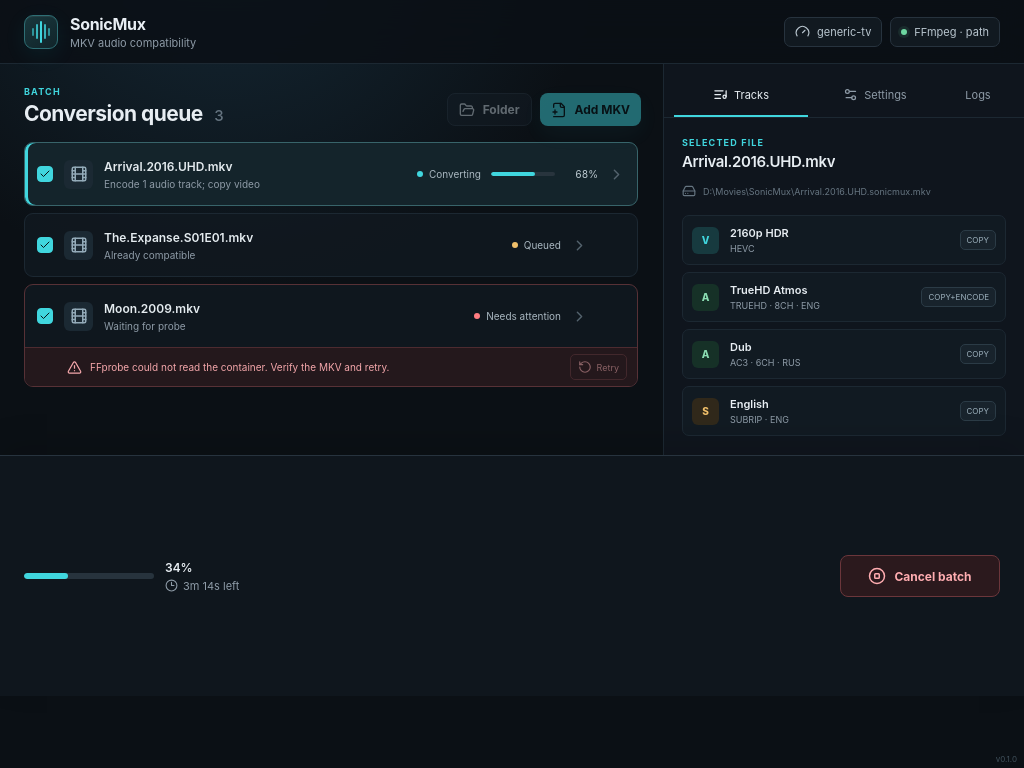
Test: SonicMux desktop interface › exposes cancellation as the only primary batch action while running
expect the button "Start conversion" is not shown: met
Click the button "Cancel batch" at (920, 576), box [840,555,1000,597]
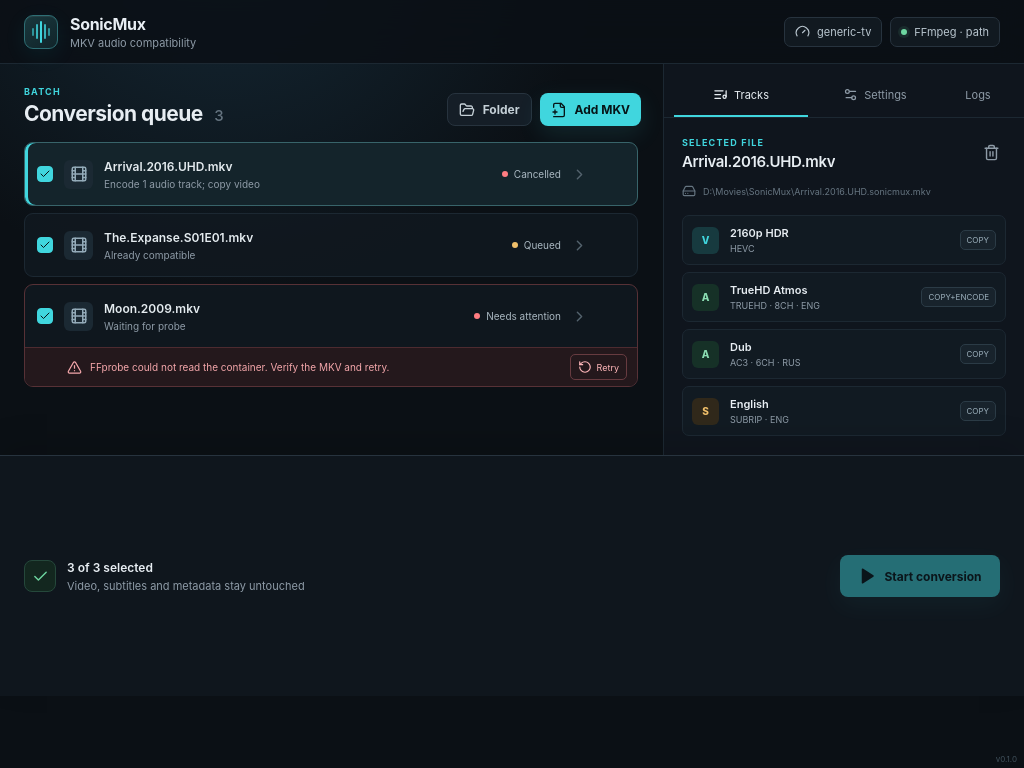
expect the button "Start conversion" is shown: met, box [840,555,1000,597]
